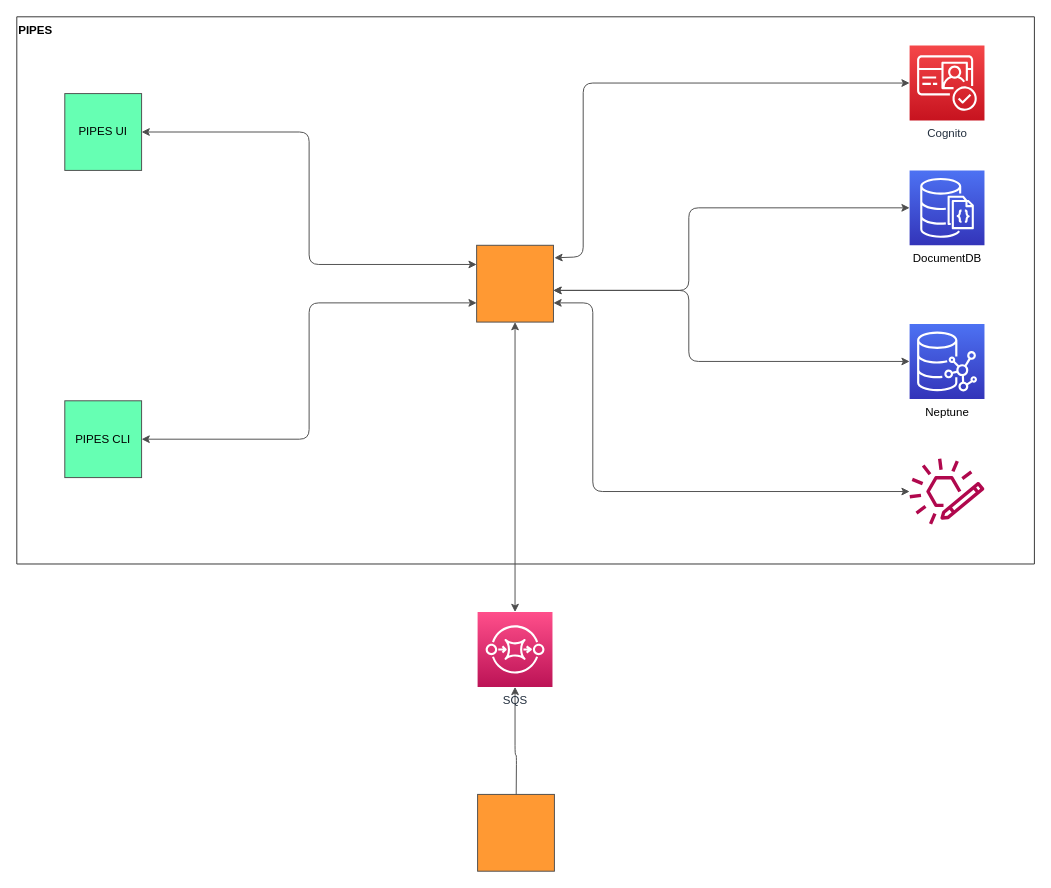
Some shapes in this 1051 by 888 pixel diagram are drawn without their labels. Each missing label, with the centre of its shape:
"Event Bus" belongs at pixel 946 491.
"HERO" belongs at pixel 515 832.
"PIPES API" belongs at pixel 514 283.
